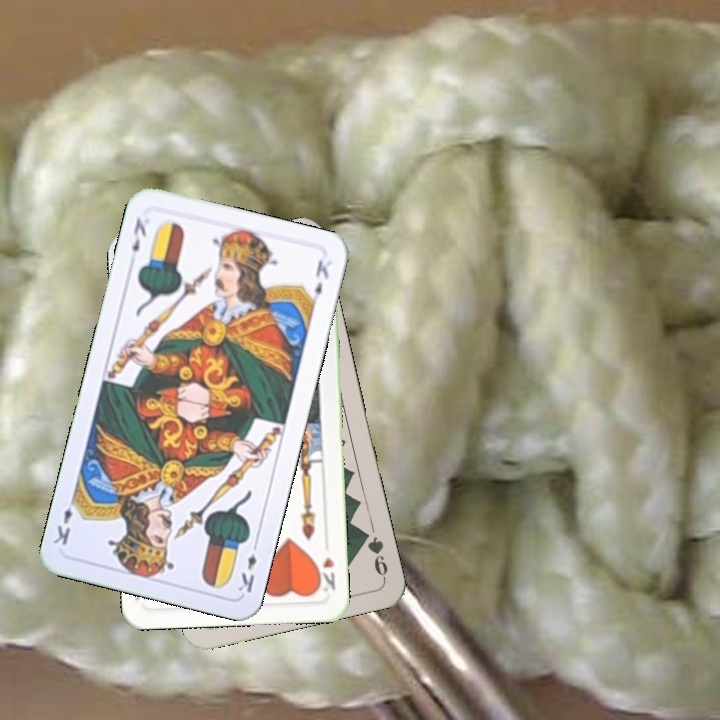EK: (234, 537, 261, 595), (128, 213, 149, 255)
G9: (357, 526, 391, 582)
HK: (313, 553, 338, 594)
